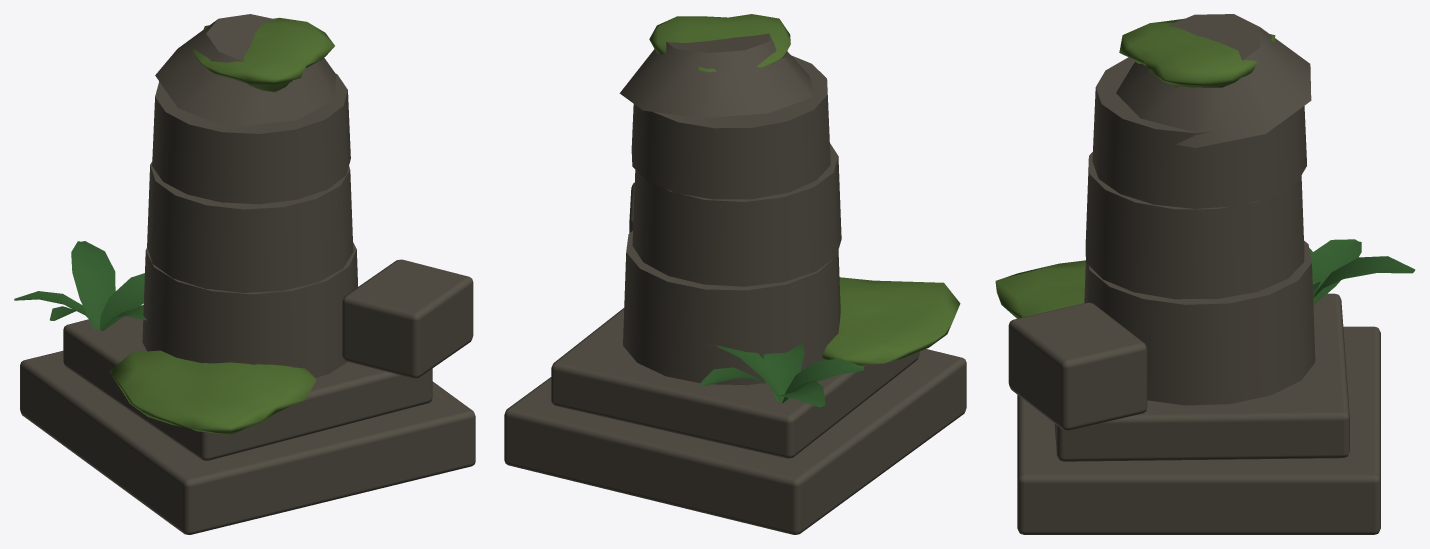
File: ruin-pillar.glb
3 renders of one model, left to right at view 1: azimuth 30°, elevation 25°; view 2: azimuth 150°, elevation 25°; view 3: azimuth 270°, elevation 25°, orthographic. The views are drawn at different scales.
Visible parts, largest first — view 1: ruin-stone, moss, leaf-dark; view 2: ruin-stone, moss, leaf-dark; view 3: ruin-stone, moss, leaf-dark.
Part boxes in pixels (box(x1,y1,x2,y2)): ruin-stone: box(20, 14, 475, 534); moss: box(109, 17, 334, 434); leaf-dark: box(14, 241, 147, 330); ruin-stone: box(504, 33, 966, 534); moss: box(649, 14, 960, 365); leaf-dark: box(699, 343, 863, 407); ruin-stone: box(1008, 14, 1380, 534); moss: box(995, 18, 1275, 318); leaf-dark: box(1309, 239, 1415, 304).
Bounding box in the file's own units: 2.07 × 2.45 × 2.15.
